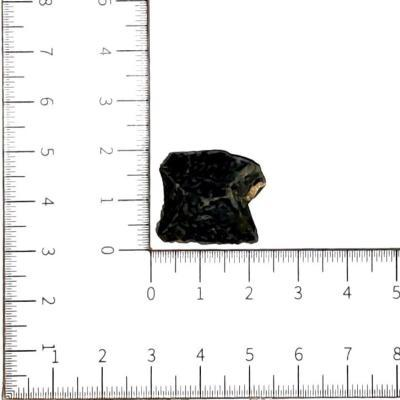archeology: (156, 150, 267, 246)
